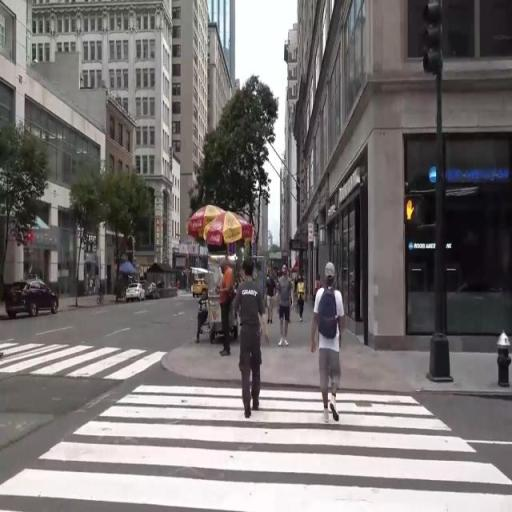person: (313, 263, 349, 433), (236, 259, 266, 432), (219, 249, 240, 362), (280, 265, 300, 359), (199, 288, 215, 343), (267, 266, 278, 335), (298, 274, 308, 323)
